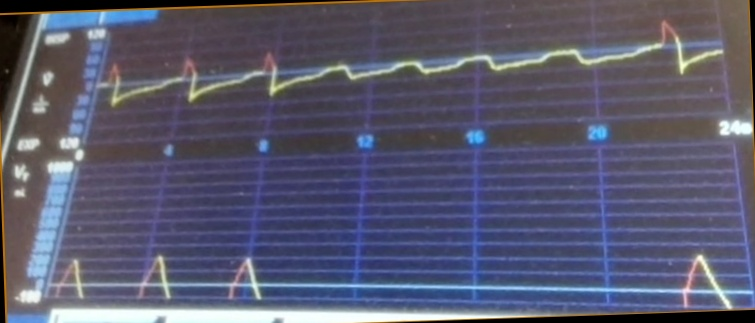Ineffective_effort Flow: (102, 20, 721, 116)
Ineffective_effort Volume: (55, 230, 733, 308)
